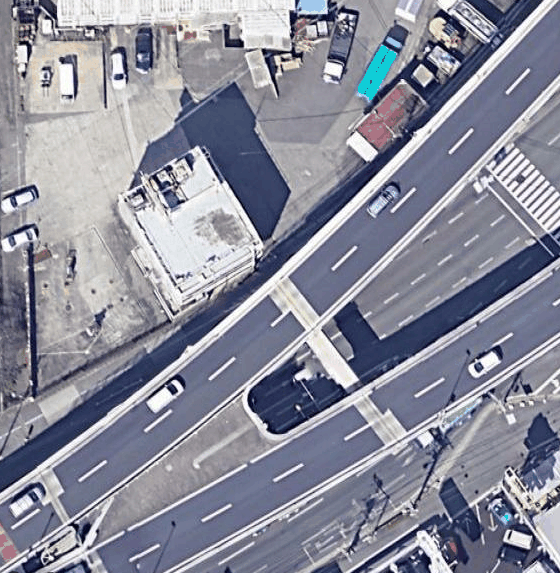rooftop: (109, 137, 274, 309)
